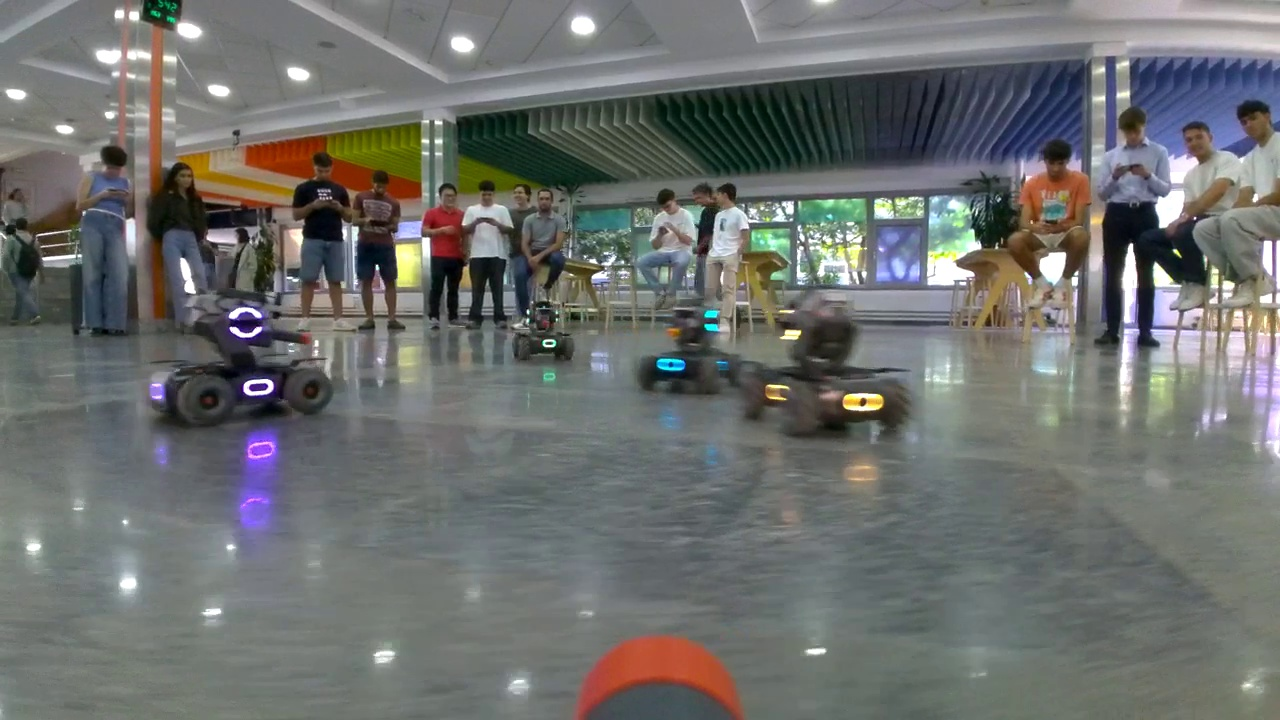robot: (147, 287, 334, 426), (737, 286, 912, 430), (636, 302, 742, 396), (507, 299, 577, 364)
